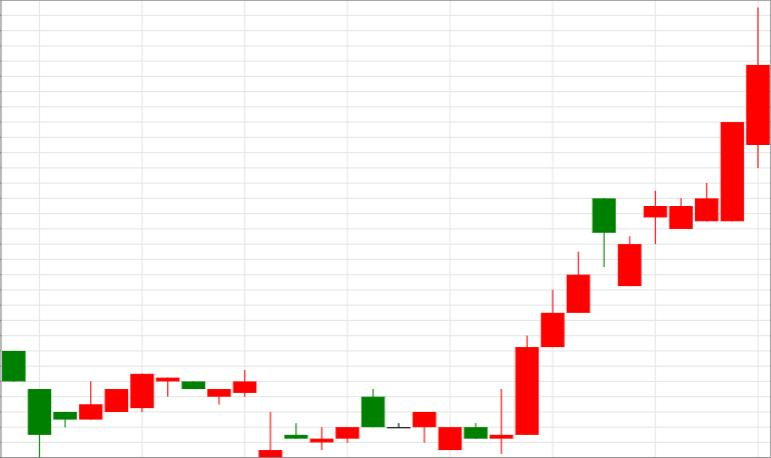hanging_man_fall: (489, 199, 616, 453)
